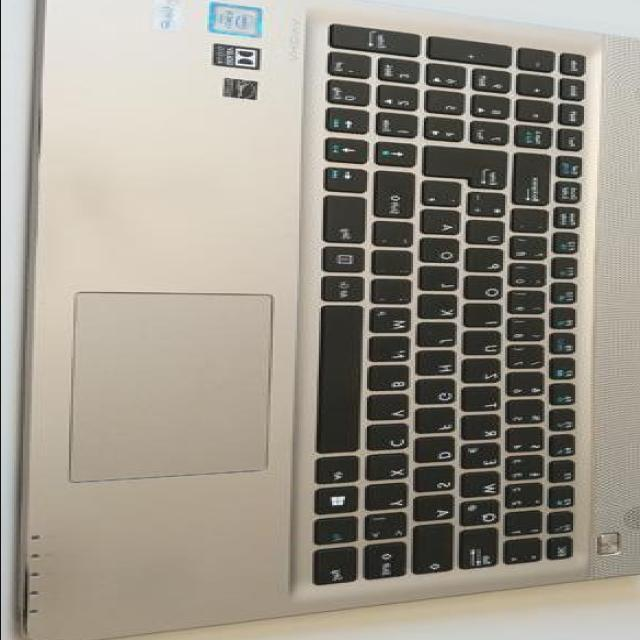0: (513, 267, 553, 291)
1: (508, 513, 548, 539)
2: (508, 485, 548, 511)
3: (511, 459, 551, 485)
4: (511, 431, 551, 455)
5: (511, 403, 551, 427)
6: (511, 375, 551, 399)
7: (511, 348, 551, 372)
8: (511, 320, 551, 344)
9: (513, 294, 551, 318)
a: (419, 498, 461, 525)
accent: (515, 212, 555, 236)
ae: (425, 212, 467, 239)
alt-left: (318, 460, 366, 488)
altgr-right: (327, 278, 371, 305)
b: (373, 368, 415, 395)
c: (371, 427, 415, 454)
caret: (508, 541, 548, 568)
comma: (375, 282, 419, 308)
d: (419, 440, 463, 467)
del: (517, 156, 559, 210)
e: (465, 446, 507, 473)
enter: (425, 147, 515, 195)
f: (419, 411, 463, 437)
g: (421, 382, 463, 408)
h: (421, 354, 463, 378)
hash: (425, 184, 467, 211)
i: (467, 307, 507, 331)
j: (421, 326, 463, 350)
k: (423, 297, 465, 323)
keyboard: (301, 20, 605, 596)
l: (423, 269, 465, 295)
less: (368, 516, 414, 543)
m: (375, 311, 419, 338)
minus: (377, 224, 419, 251)
n: (373, 339, 417, 366)
o: (469, 278, 509, 304)
oe: (425, 241, 465, 267)
p: (469, 252, 509, 276)
plus: (471, 196, 513, 222)
point: (377, 253, 419, 280)
q: (465, 503, 507, 531)
r: (465, 418, 507, 444)
s: (419, 469, 461, 496)
shift-left: (368, 545, 414, 585)
shift-lock: (417, 526, 461, 577)
shift-right: (377, 175, 421, 223)
space: (322, 309, 368, 458)
ss: (515, 239, 553, 263)
strg-left: (318, 550, 364, 590)
strg-right: (327, 198, 373, 248)
t: (467, 389, 507, 415)
tab: (463, 532, 505, 572)
u: (467, 334, 507, 358)
ue: (469, 224, 511, 248)
v: (371, 397, 415, 424)
w: (465, 475, 509, 502)
x: (371, 456, 415, 483)
y: (368, 485, 414, 513)
z: (467, 362, 509, 386)
